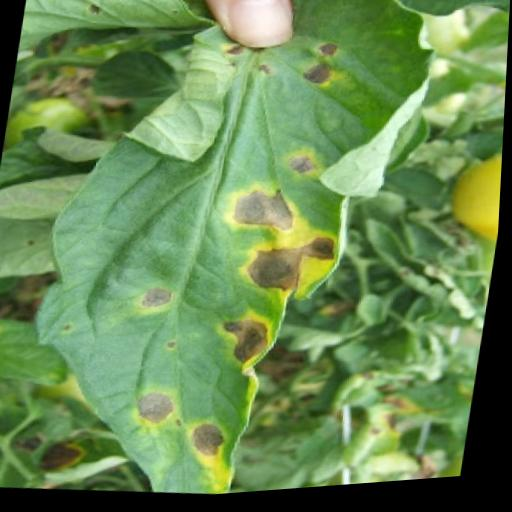Early Blight: (15, 0, 444, 510)
